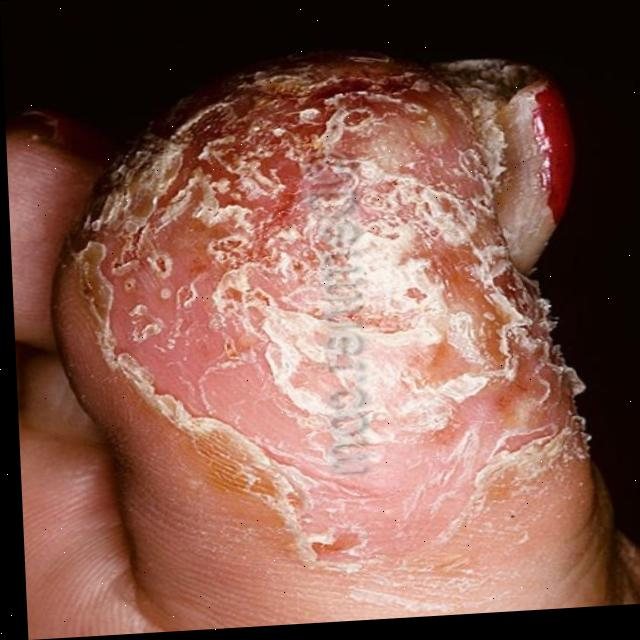Eczema: (125, 37, 541, 587)
